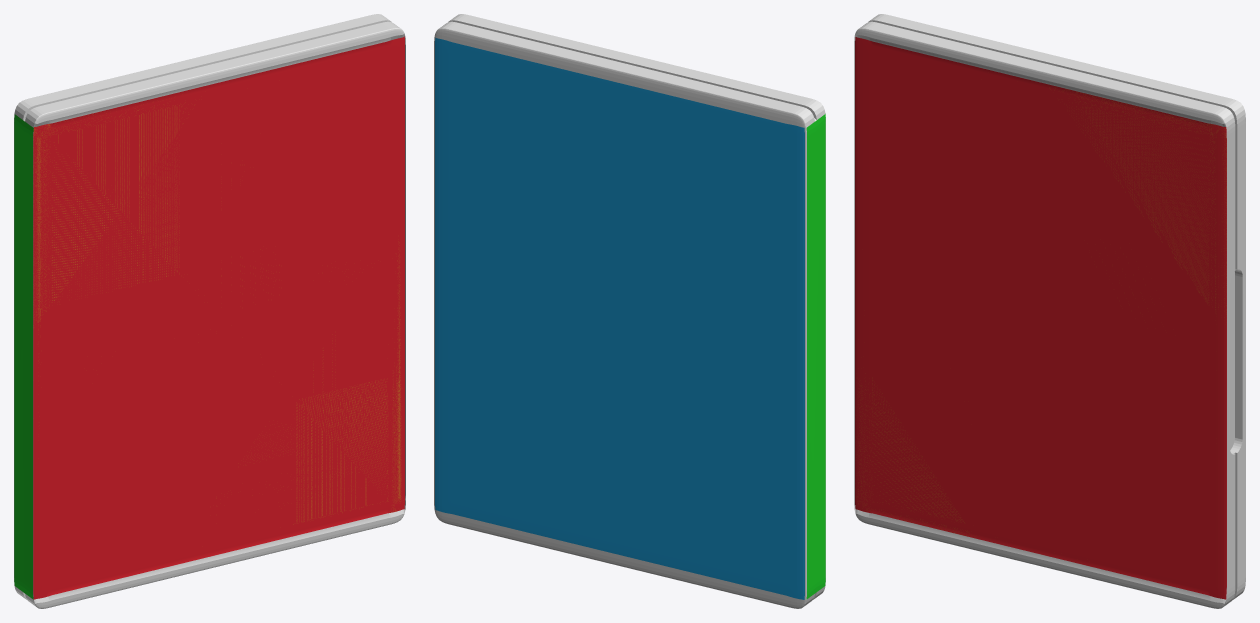
The model's file is carcasaPRUEBA.glb.
3 views of the same model, side by side, from view 1: azimuth 30°, elevation 25°; view 2: azimuth 150°, elevation 25°; view 3: azimuth 330°, elevation 25° (orthographic).
Parts seen in each view (by area): view 1: Cube_Cube.001; view 2: Cube_Cube.001; view 3: Cube_Cube.001.
Part boxes in pixels (x1,y1,x2,y2): Cube_Cube.001: (14, 14, 405, 608); Cube_Cube.001: (434, 14, 825, 608); Cube_Cube.001: (854, 14, 1245, 608).
Bounding box in the file's own units: 13.5 × 17.15 × 1.3.
